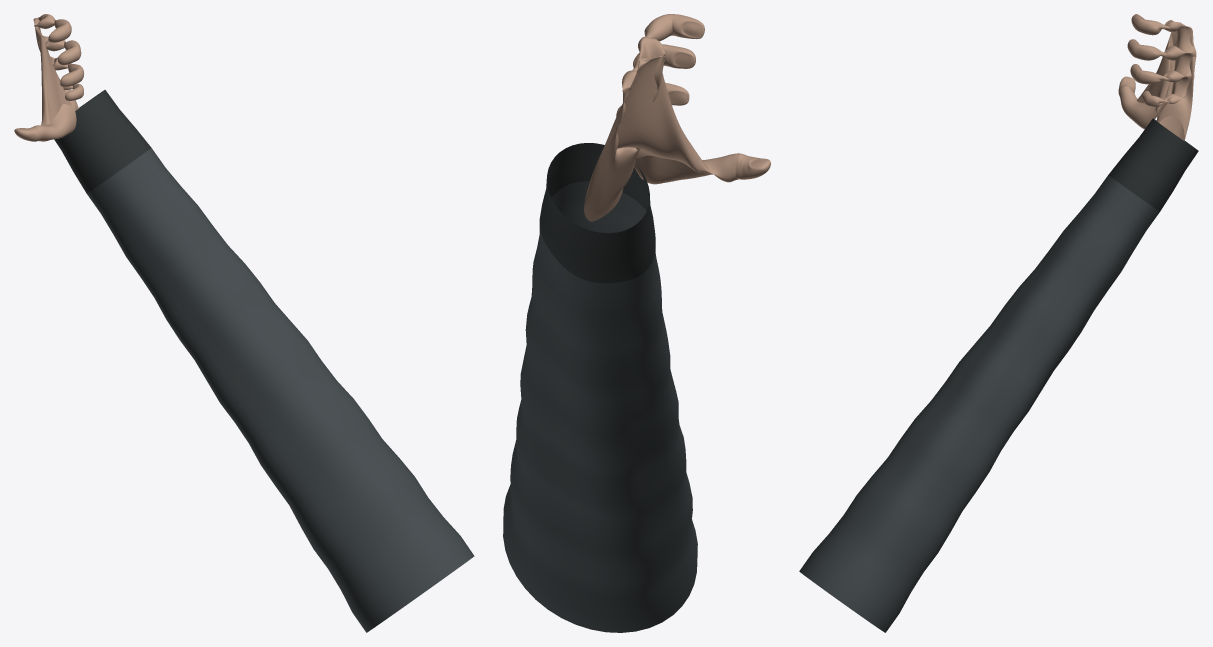
The model's file is phone.glb.
3 renders of one model, left to right at view 1: azimuth 30°, elevation 25°; view 2: azimuth 150°, elevation 25°; view 3: azimuth 270°, elevation 25°, orthographic. The views are drawn at different scales.
Parts seen in each view (by area): view 1: RightHand_phone_Sleeve, RightHand_phone; view 2: RightHand_phone_Sleeve, RightHand_phone; view 3: RightHand_phone_Sleeve, RightHand_phone.
Boxes of the visible parts, box(x1,y1,x2,y2) form: RightHand_phone_Sleeve: box(54, 90, 474, 632); RightHand_phone: box(14, 14, 84, 141); RightHand_phone_Sleeve: box(503, 143, 697, 632); RightHand_phone: box(584, 14, 770, 221); RightHand_phone_Sleeve: box(799, 118, 1198, 632); RightHand_phone: box(1118, 14, 1196, 140).
Bounding box in the file's own units: 0.3538 × 0.5894 × 0.4074.
